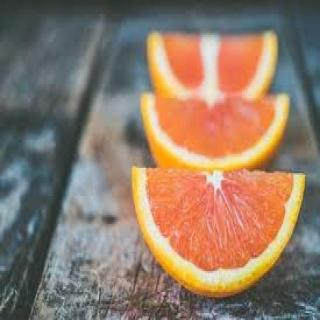orange: (123, 152, 320, 316), (135, 87, 301, 180), (138, 20, 284, 114)
